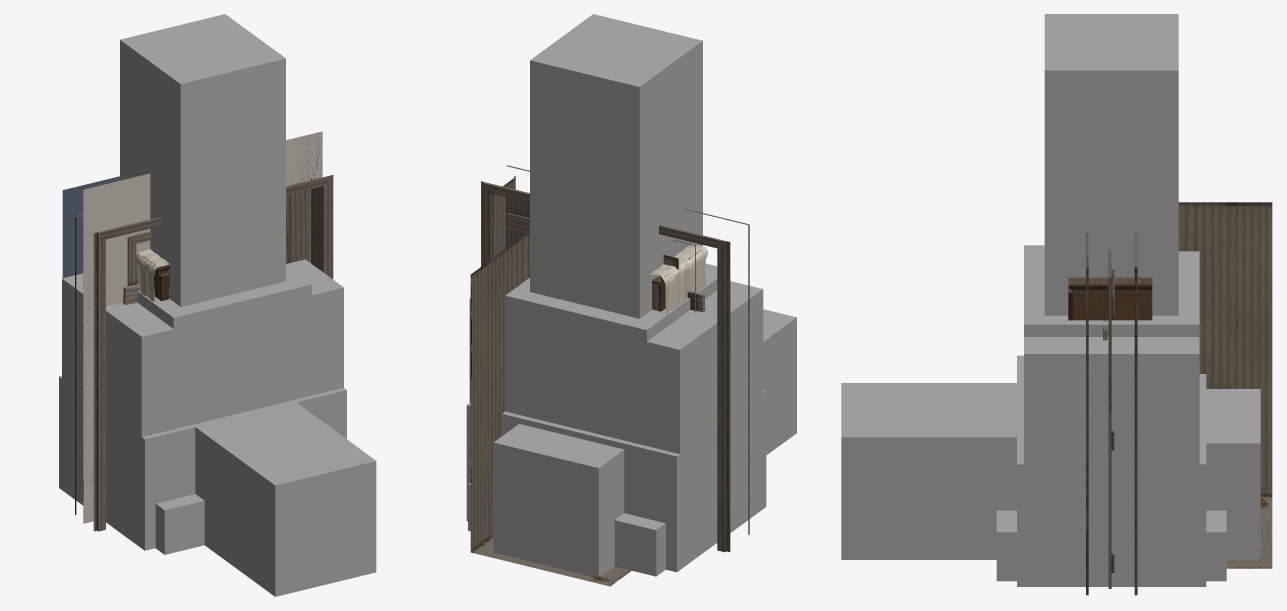
Rendered from attic.glb.
The picture shows the model from 3 angles, left to right: view 1: azimuth 30°, elevation 25°; view 2: azimuth 150°, elevation 25°; view 3: azimuth 270°, elevation 25°; orthographic projection. The views are drawn at different scales.
Parts seen in each view (by area): view 1: Col_chimney_breast_H400, Solid_iron_bed_sheeted, Isl_sheeted_armoire, Isl_servant_bed, Isl_sheeted_sofa, Door_closed_attic, Door_frame_attic, Win_oculus, Isl_toy_circle, Isl_trunk_pile, Isl_dress_forms, Solid_sheet_sofa (+6 smaller); view 2: Col_chimney_breast_H400, Isl_sheeted_sofa, Isl_sheeted_armoire, Solid_sheet_sofa, Exit_attic_p0, Isl_servant_bed, Door_frame_attic, Isl_trunk_pile, Solid_iron_bed_sheeted, Isl_toy_circle, Ward_body_attic, Door_leaf_attic; view 3: Col_chimney_breast_H400, Solid_iron_bed_sheeted, Isl_sheeted_sofa, Isl_servant_bed, Exit_attic_p0, Solid_sheet_sofa, Isl_sheeted_armoire, Ward_body_attic, Isl_toy_circle, Door_frame_attic, Door_leaf_attic.
Boxes of the visible parts, x1,y1,x2,y2 form: Col_chimney_breast_H400: (120, 14, 285, 306); Solid_iron_bed_sheeted: (195, 402, 376, 596); Isl_sheeted_armoire: (137, 265, 311, 428); Isl_servant_bed: (59, 376, 346, 550); Isl_sheeted_sofa: (62, 259, 343, 529); Door_closed_attic: (83, 131, 322, 523); Door_frame_attic: (75, 175, 333, 531); Win_oculus: (83, 132, 322, 522); Isl_toy_circle: (155, 494, 204, 554); Isl_trunk_pile: (156, 357, 333, 415); Isl_dress_forms: (157, 319, 327, 432); Solid_sheet_sofa: (195, 433, 219, 555); Col_chimney_breast_H400: (530, 14, 702, 318); Isl_sheeted_sofa: (469, 281, 763, 569); Isl_sheeted_armoire: (505, 263, 717, 445); Solid_sheet_sofa: (493, 424, 624, 576); Exit_attic_p0: (470, 231, 695, 586); Isl_servant_bed: (466, 390, 766, 572); Door_frame_attic: (481, 165, 749, 552); Isl_trunk_pile: (505, 377, 668, 451); Solid_iron_bed_sheeted: (763, 309, 796, 455); Isl_toy_circle: (468, 483, 665, 576); Ward_body_attic: (650, 243, 707, 315); Door_leaf_attic: (506, 197, 529, 248); Col_chimney_breast_H400: (1044, 14, 1178, 315); Solid_iron_bed_sheeted: (841, 383, 1023, 559); Isl_sheeted_sofa: (1024, 245, 1199, 586); Isl_servant_bed: (1017, 355, 1206, 586); Exit_attic_p0: (1111, 202, 1272, 568); Solid_sheet_sofa: (963, 389, 1260, 559); Isl_sheeted_armoire: (1024, 250, 1199, 336); Ward_body_attic: (1068, 277, 1152, 320); Isl_toy_circle: (996, 510, 1226, 581); Door_frame_attic: (1086, 232, 1137, 595); Door_leaf_attic: (1108, 248, 1114, 588).
Size of the model in its own units: 2.25 by 4.23 by 3.19.
Materials: 18 (13 with a texture image).
